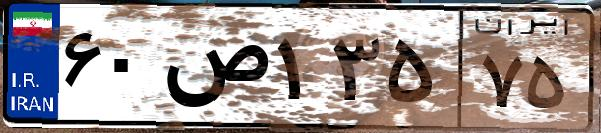0: (110, 28, 158, 98)
1: (270, 28, 330, 110)
3: (330, 28, 385, 110)
5: (385, 28, 445, 110), (525, 38, 570, 115)
6: (57, 26, 110, 100)
7: (475, 38, 525, 113)
ص: (158, 20, 270, 120)
